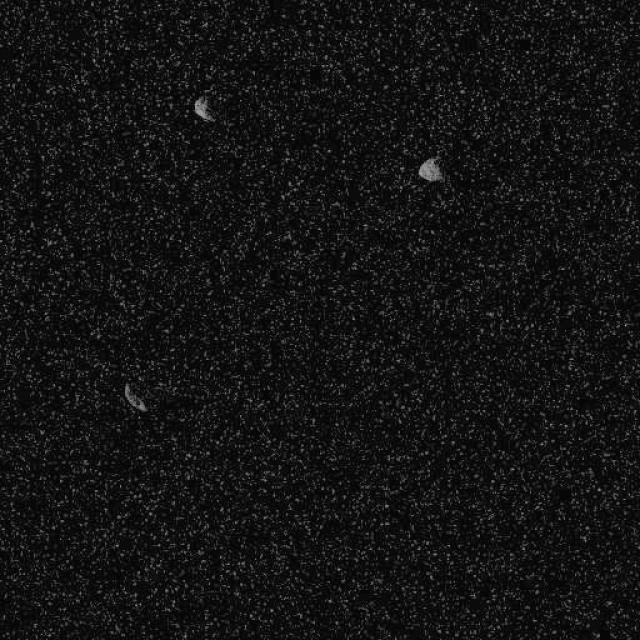D2: (416, 155, 444, 183), (122, 382, 148, 412), (192, 94, 216, 122)
